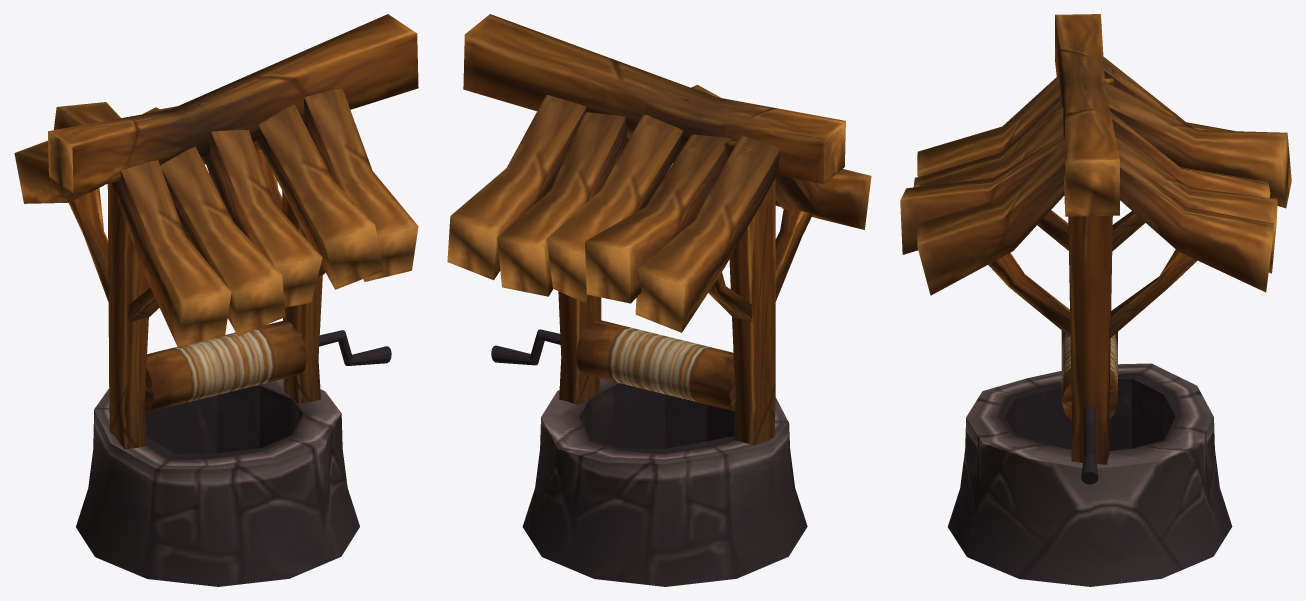
File: well_3.fbx
The picture shows the model from 3 angles, left to right: view 1: azimuth 30°, elevation 25°; view 2: azimuth 150°, elevation 25°; view 3: azimuth 270°, elevation 25°; orthographic projection.
Visible parts, largest first — view 1: well_3; view 2: well_3; view 3: well_3.
Boxes of the visible parts, x1,y1,x2,y2 form: well_3: (14,14,418,586); well_3: (447,14,871,586); well_3: (900,14,1291,586).
Bounding box in the file's own units: 2.82 × 3.49 × 2.71.
